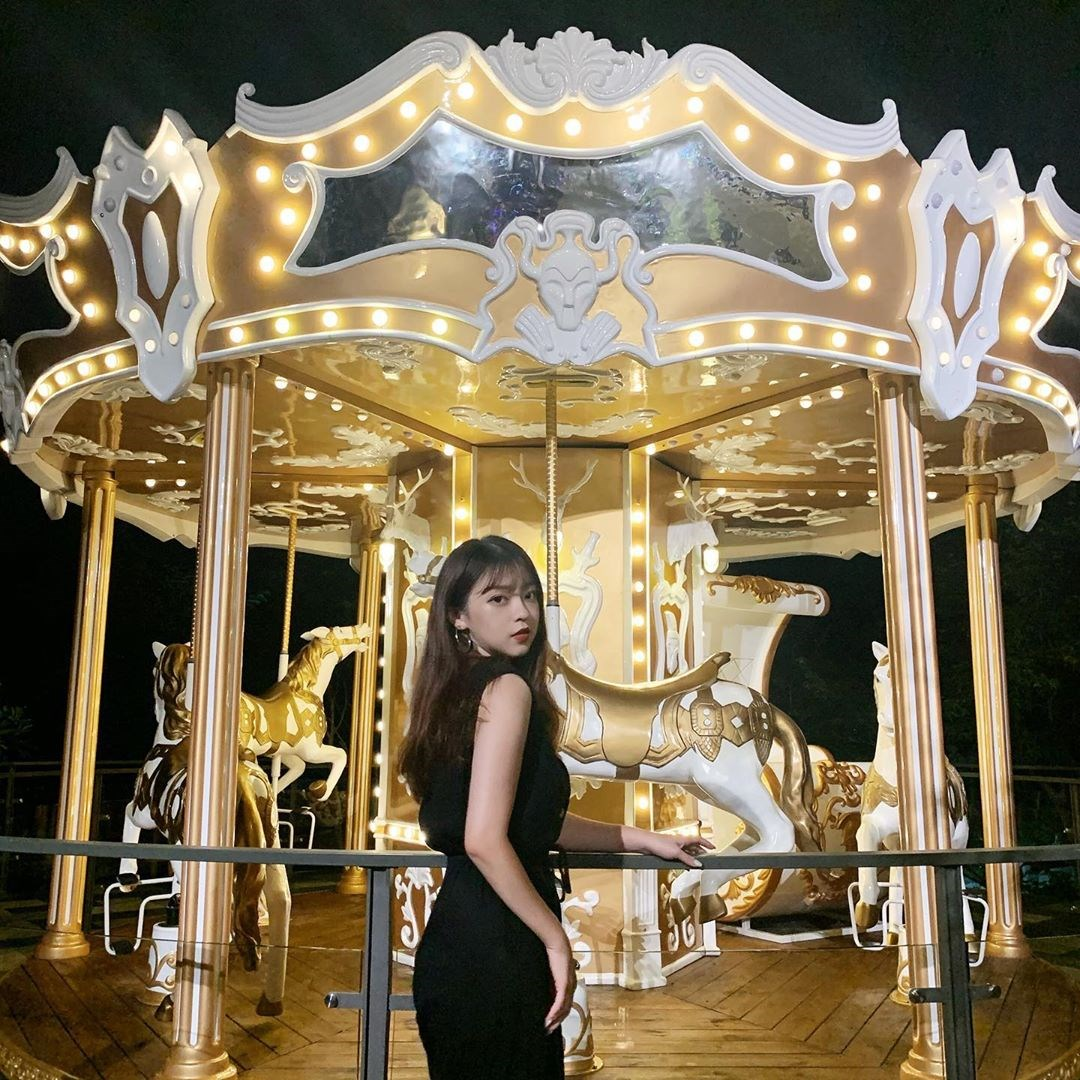people: (406, 535, 572, 1080)
